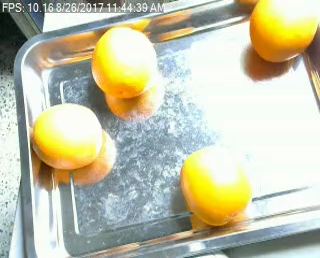Orange: (179, 143, 252, 225), (90, 25, 155, 99), (32, 103, 103, 169), (248, 1, 319, 62)
